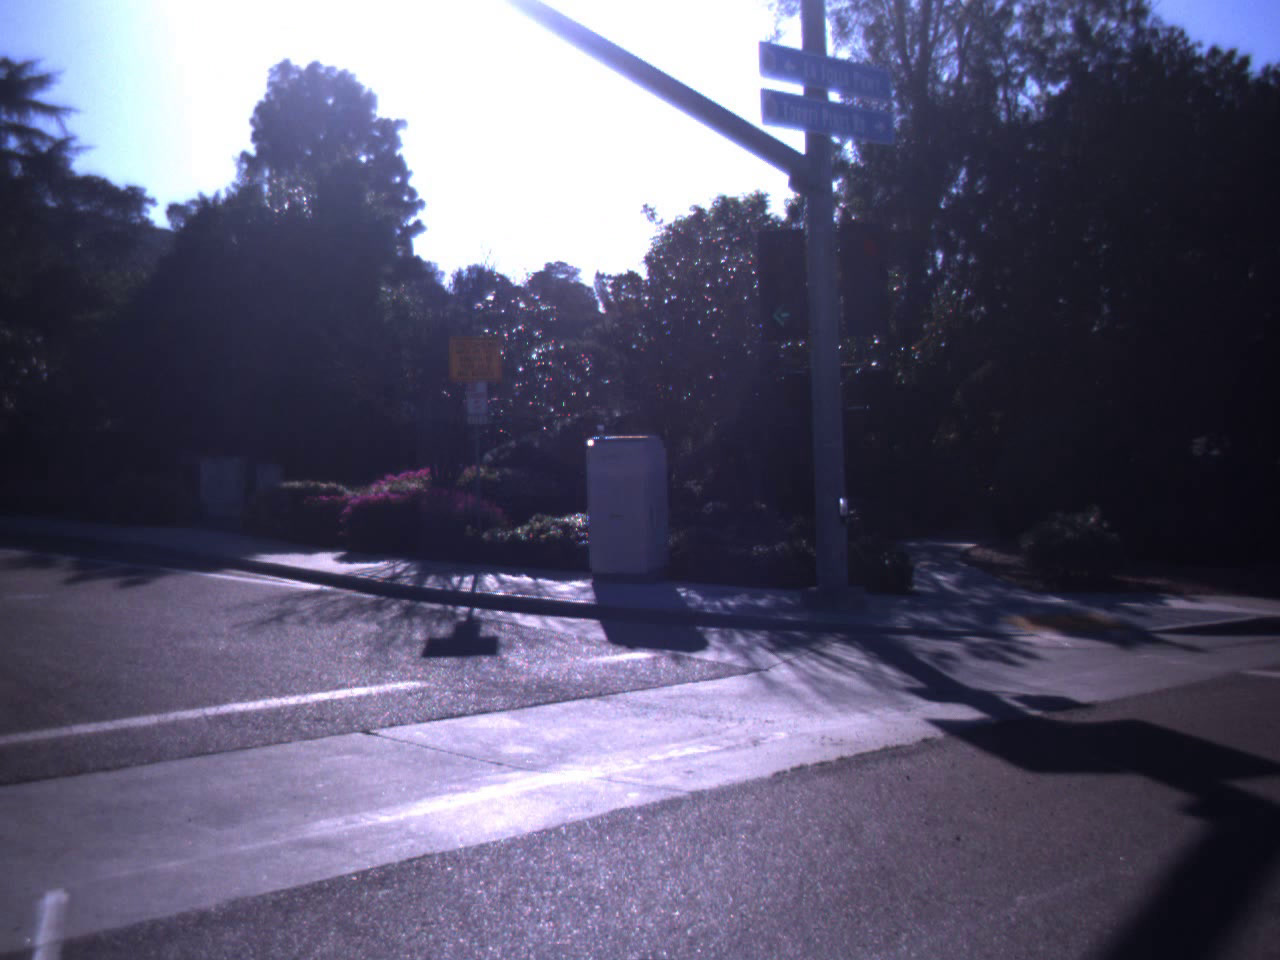go: (747, 230, 816, 335)
